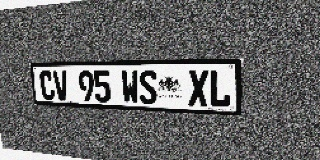5: (93, 70, 111, 103)
9: (78, 70, 95, 102)
C: (39, 71, 55, 100)
L: (209, 70, 231, 108)
S: (139, 70, 158, 105)
V: (53, 71, 69, 101)
W: (121, 70, 139, 104)
X: (188, 70, 209, 107)
